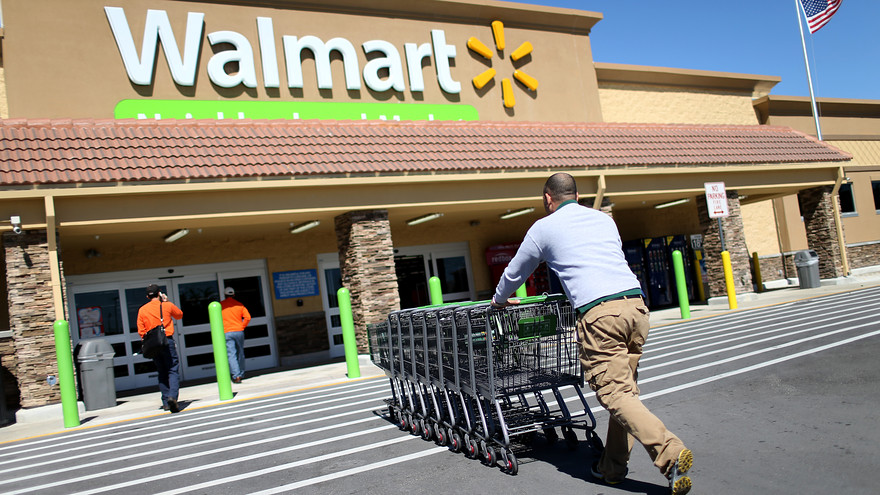Not_Face: (534, 171, 580, 218), (141, 284, 171, 315), (215, 279, 241, 299)
